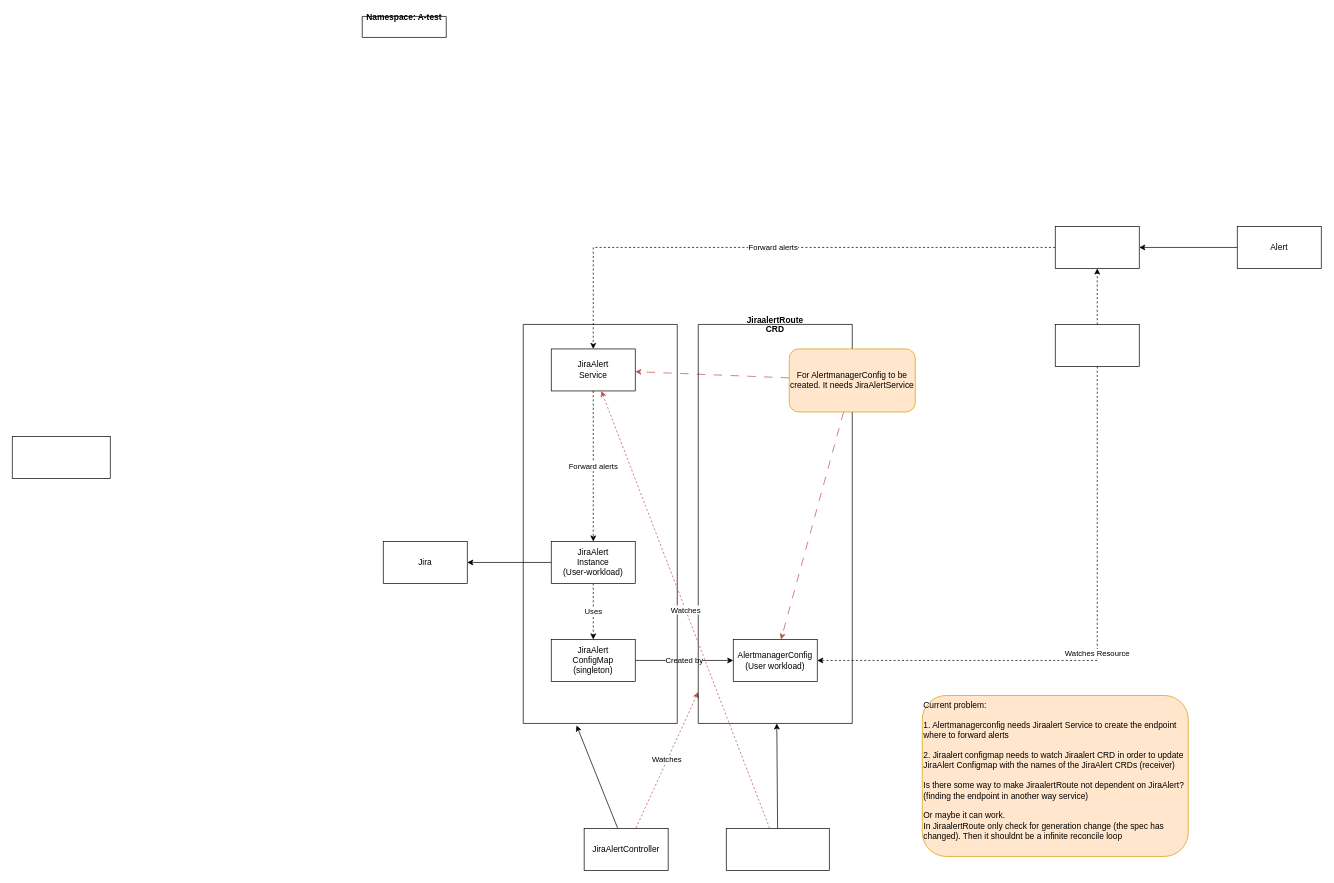
The diagram is 1334 pixels wide and 883 high, and some of its shapes have lost their labels. The centre of each missing label's shape, as x and y in pixels:
"Alertmanager Instance" goes at [1097,247].
"JIiraalert CRD" goes at [600,523].
"JiraAlertConfig (Template) Project: A" goes at [61,457].
"JiraalertRouteController" goes at [777,849].
"Prometheus operator" goes at [1097,345].
